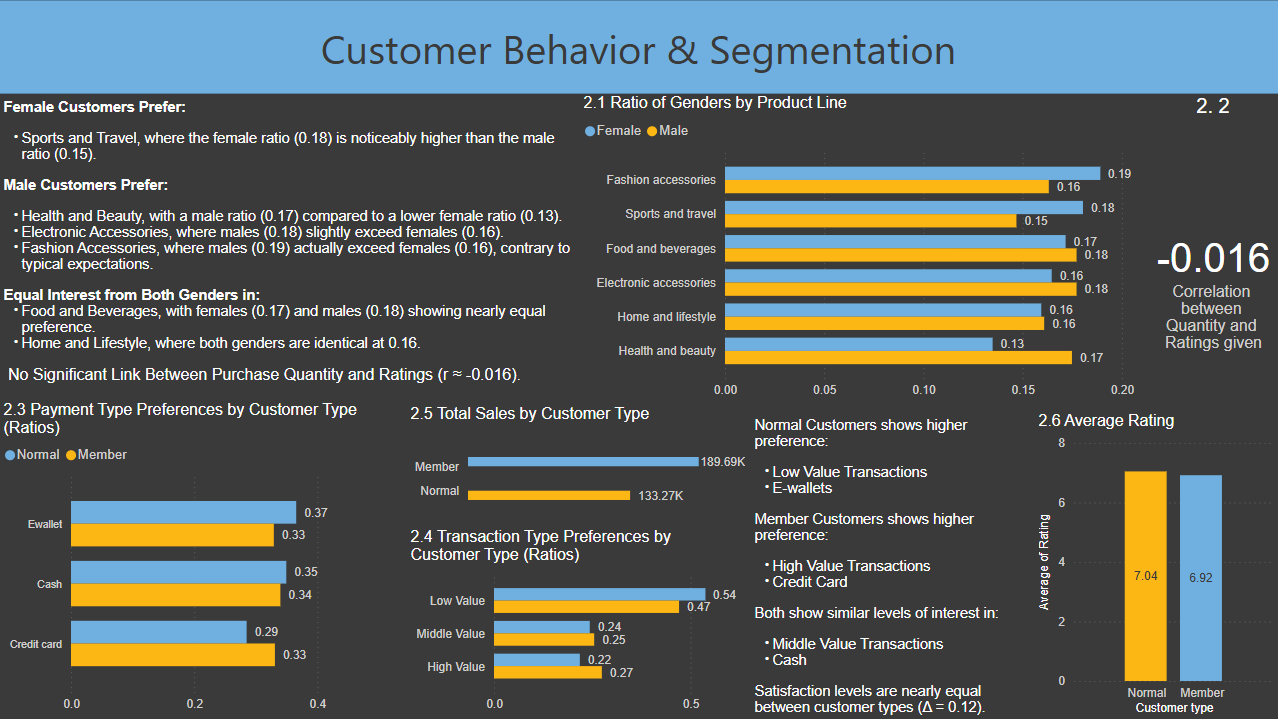

Layout of this report page (visuals, bound fields, positions):
{"tool":"powerbi","page":{"name":"Page 2","canvas":[1280,720],"ordinal":1},"visuals":[{"type":"clusteredBarChart","title":"2.4 Transaction Type Preferences by Customer Type (Ratios)","fields":{"Y":["Sum(customertype_transaction.Normal)","Sum(customertype_transaction.Member)"],"Category":["customertype_transaction.Transaction_category"]},"box":[407.2,528.1,343.7,191.5],"z":0},{"type":"columnChart","title":"2.6 Average Rating","fields":{"Category":["SuperMarket Analysis.Customer type"],"Y":["Avg(SuperMarket Analysis.Rating)"],"Series":["SuperMarket Analysis.Customer type"]},"box":[1034.5,411.8,245.5,308.2],"z":1000},{"type":"clusteredBarChart","title":"2.3 Payment Type Preferences by Customer Type (Ratios)","fields":{"Category":["customertype_payment.Payment"],"Y":["Sum(customertype_payment.Normal)","Sum(customertype_payment.Member)"]},"box":[0,401.1,407.2,318.5],"z":2000},{"type":"clusteredBarChart","title":"2.1 Ratio of Genders by Product Line","fields":{"Category":["gender_product.Product line"],"Y":["Sum(gender_product.Female)","Sum(gender_product.Male)"]},"box":[580,94.4,568.9,311.1],"z":3000},{"type":"textbox","box":[0,94.4,580,306.7],"z":4000},{"type":"textbox","box":[750.9,411.8,283.6,308.2],"z":5000},{"type":"card","title":"2. 2","fields":{"Values":["SuperMarket Analysis.Quantity and Rating Correlation"]},"box":[1149.1,94.5,130.9,317.3],"z":6000},{"type":"clusteredBarChart","title":"2.5 Total Sales by Customer Type","fields":{"Y":["Sum(SuperMarket Analysis.Sales)"],"Category":["SuperMarket Analysis.Customer type"],"Series":["SuperMarket Analysis.Customer type"]},"box":[407.2,405.2,343.7,123],"z":7000},{"type":"shape","box":[0,0,1280,94.4],"z":8000}]}

Visuals, with their boxes in screenshot pixels (x1, y1, x2, y2), scaled from the page's 1280x720 canvas onto the 1278x719 screenshot:
"2.4 Transaction Type Preferences by Customer Type (Ratios)" clusteredBarChart: (x1=407, y1=527, x2=750, y2=718)
"2.6 Average Rating" columnChart: (x1=1033, y1=411, x2=1277, y2=718)
"2.3 Payment Type Preferences by Customer Type (Ratios)" clusteredBarChart: (x1=0, y1=401, x2=407, y2=718)
"2.1 Ratio of Genders by Product Line" clusteredBarChart: (x1=579, y1=94, x2=1147, y2=405)
textbox: (x1=0, y1=94, x2=579, y2=401)
textbox: (x1=750, y1=411, x2=1033, y2=718)
"2. 2" card: (x1=1147, y1=94, x2=1277, y2=411)
"2.5 Total Sales by Customer Type" clusteredBarChart: (x1=407, y1=405, x2=750, y2=527)
shape: (x1=0, y1=0, x2=1277, y2=94)
